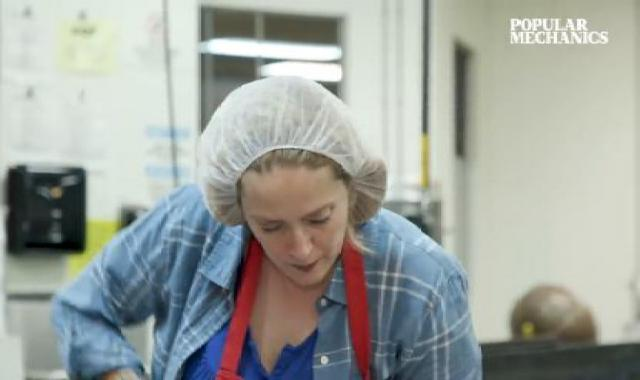hairnet: (204, 76, 396, 233)
